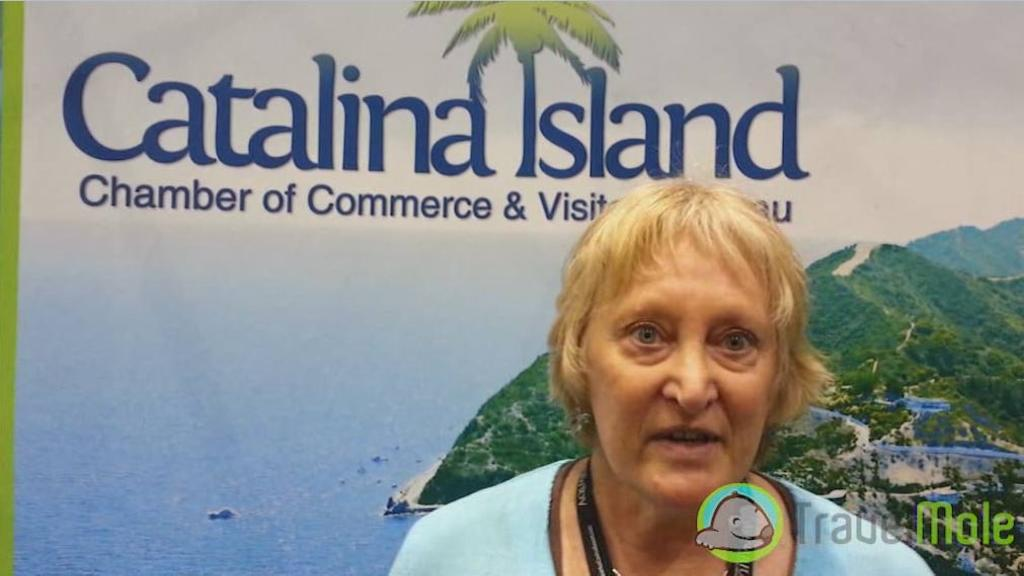face: (594, 240, 774, 504)
